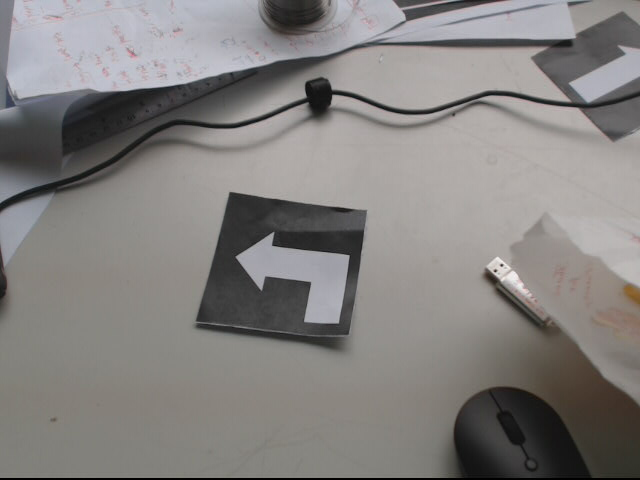left: (194, 191, 369, 341)
